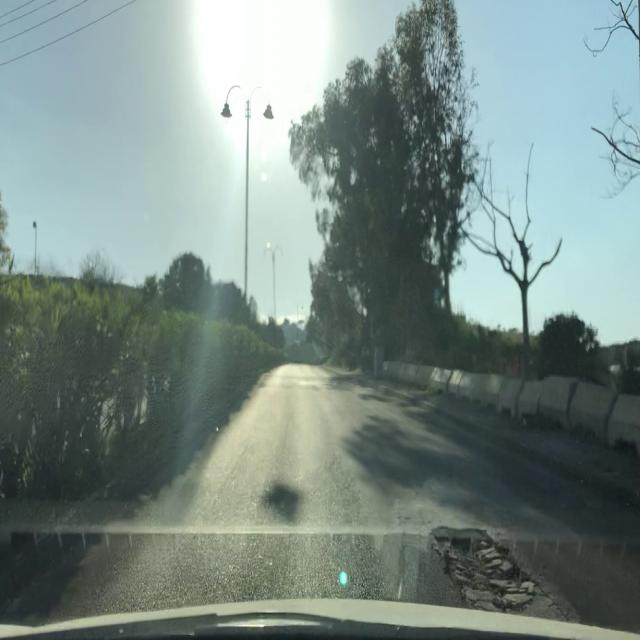Pothole: (429, 521, 583, 630)
